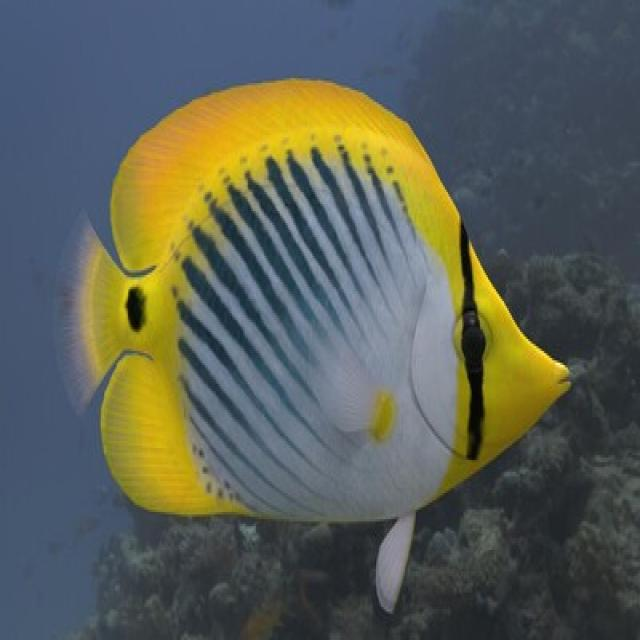ButterflyFish: (56, 78, 571, 612)
